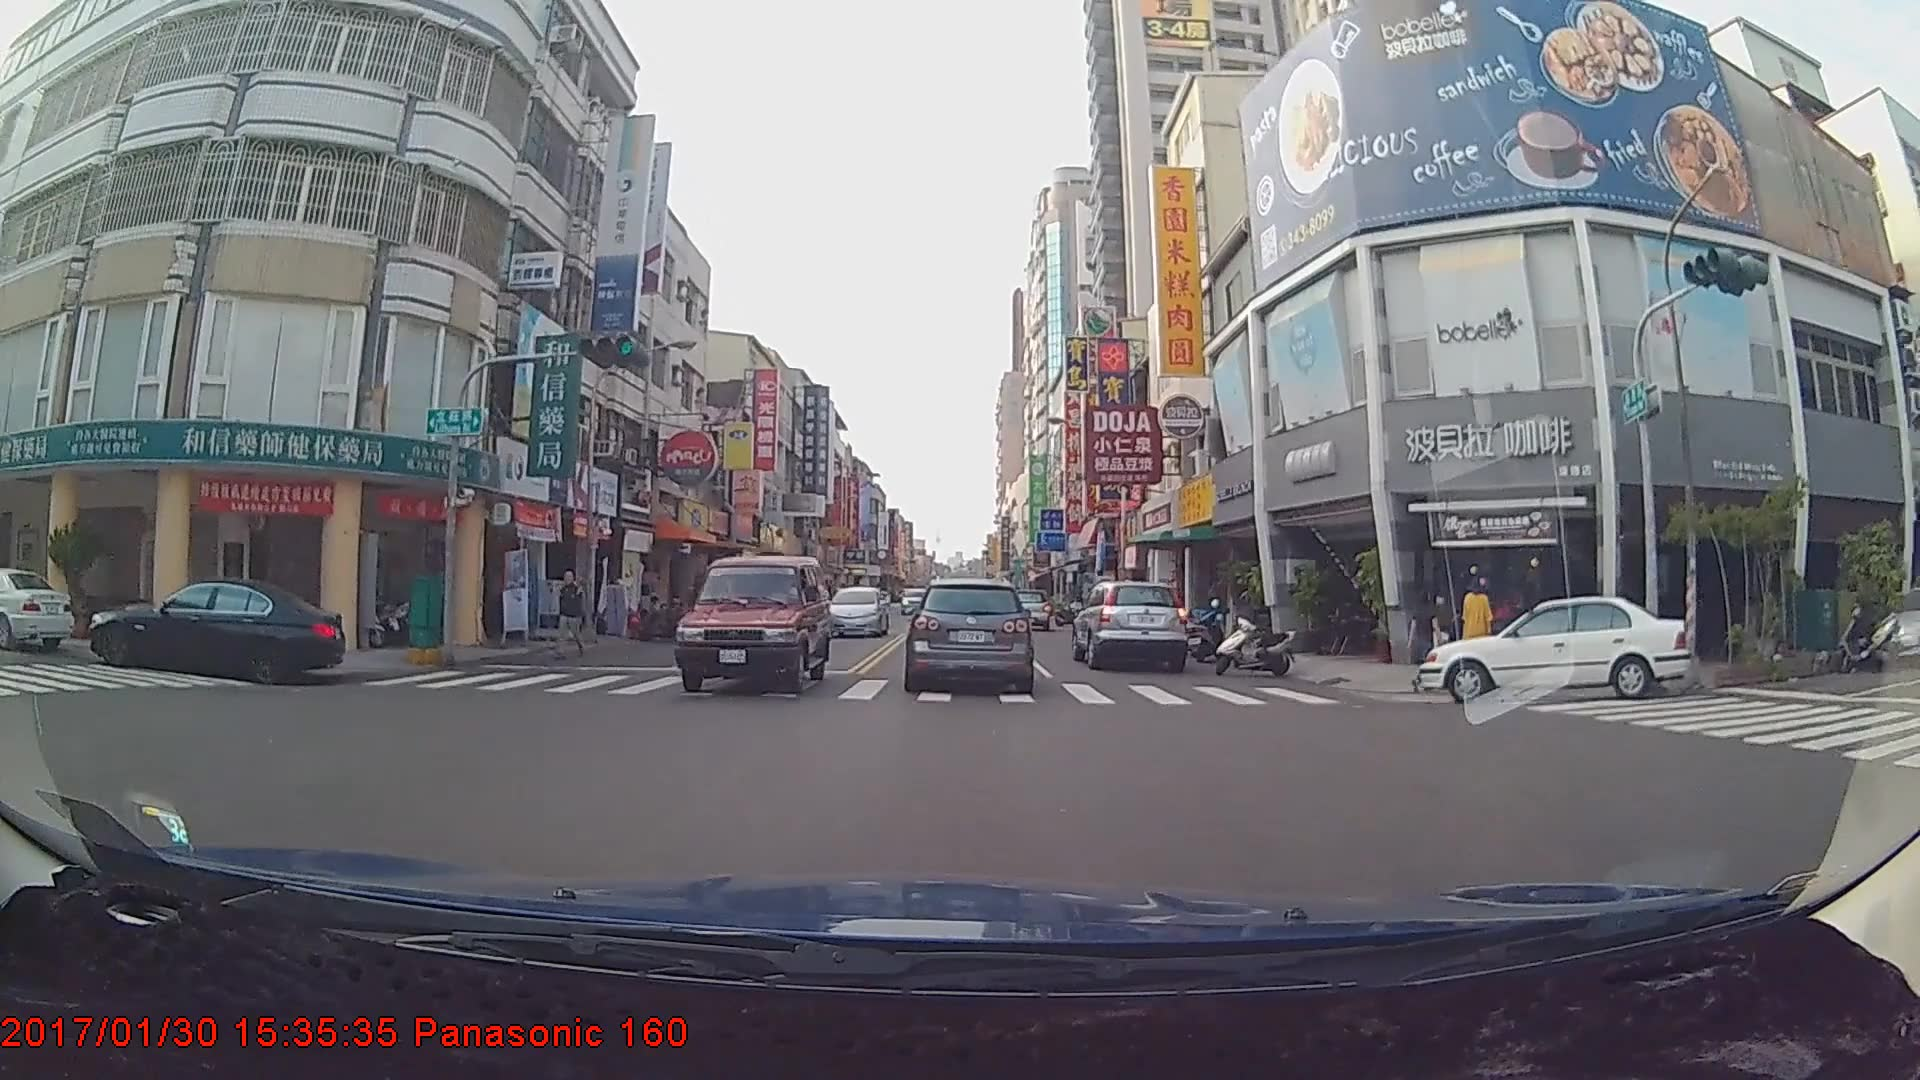pedestrian: (551, 569, 593, 658), (1409, 590, 1443, 697), (1461, 578, 1496, 669)
vehicle: (1415, 593, 1695, 703), (86, 573, 344, 683), (673, 555, 834, 694), (907, 578, 1031, 692), (1070, 578, 1189, 673), (0, 566, 73, 651), (823, 585, 889, 638), (1003, 588, 1048, 631)
